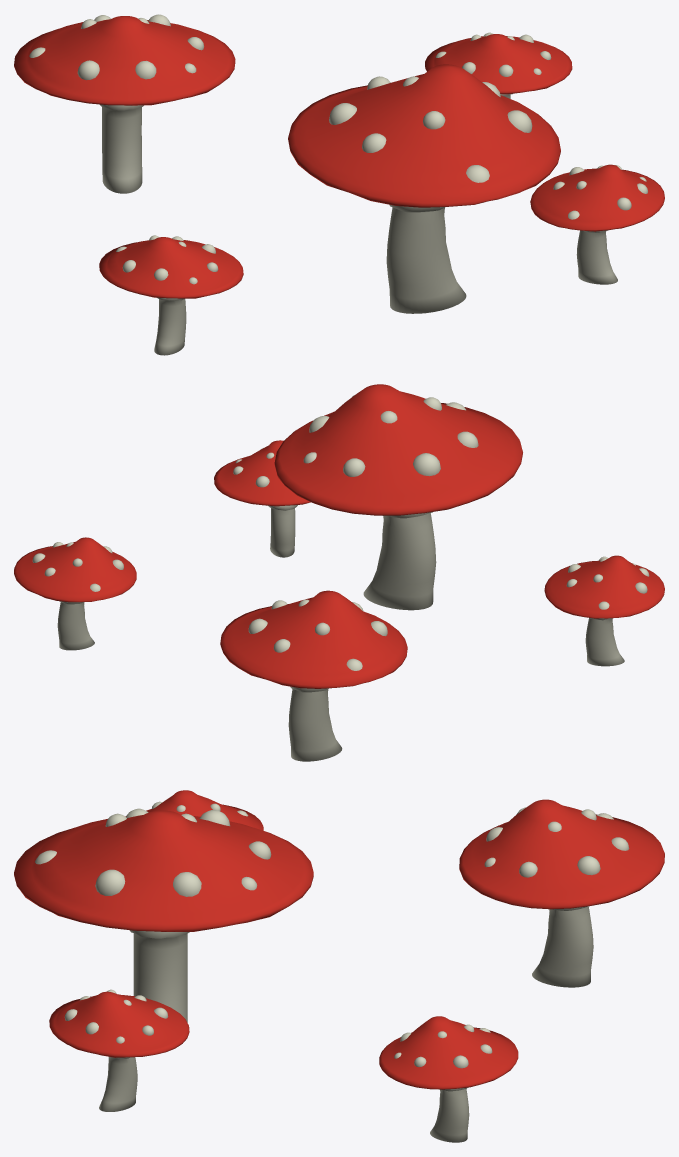
The model's file is mantarsmall.fbx.
The picture shows the model from 3 angles, top to bottom: view 1: azimuth 30°, elevation 25°; view 2: azimuth 150°, elevation 25°; view 3: azimuth 270°, elevation 25°; orthographic projection. The views are drawn at different scales.
Parts seen in each view (by area): view 1: mantar.012; view 2: mantar.012; view 3: mantar.012.
Part boxes in pixels (bbox=[...]): mantar.012: bbox=[14, 14, 664, 355]; mantar.012: bbox=[14, 384, 664, 761]; mantar.012: bbox=[14, 790, 664, 1142].
Bounding box in the file's own units: 99.06 × 37.48 × 95.75.
